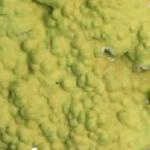alive: (2, 1, 149, 148)
